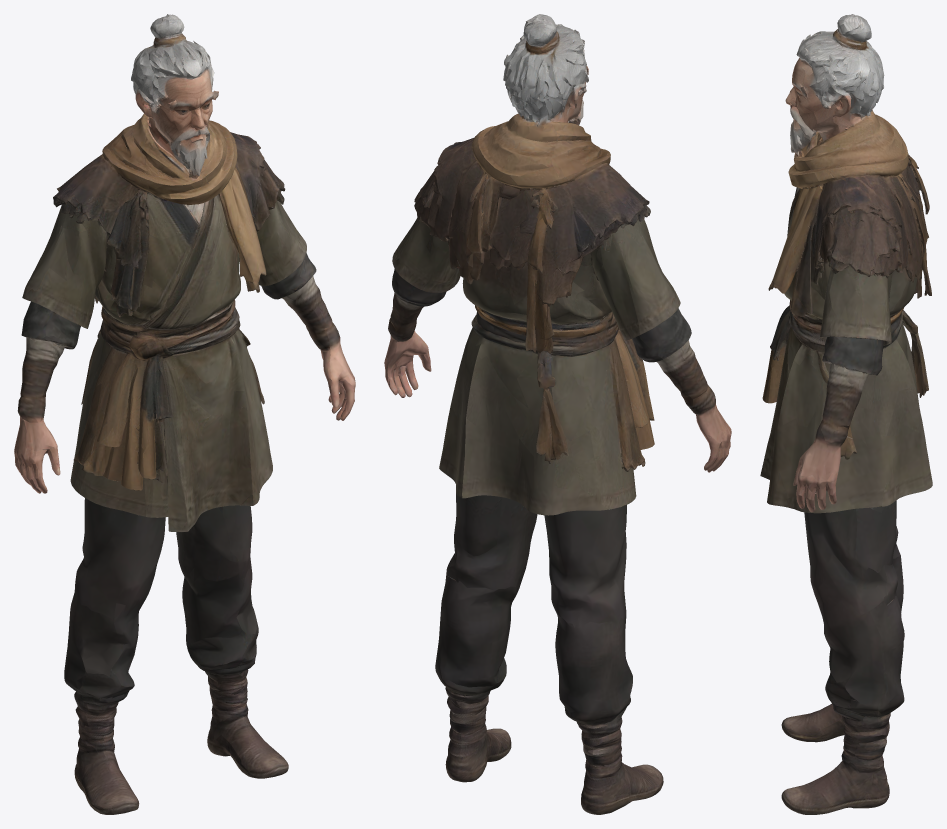
File: shenzhaoye-elder-v1.glb
The picture shows the model from 3 angles, left to right: view 1: azimuth 30°, elevation 25°; view 2: azimuth 150°, elevation 25°; view 3: azimuth 270°, elevation 25°; orthographic projection. The views are drawn at different scales.
Bounding box in the file's own units: 0.8699 × 1.89 × 0.3913.
1 material, 1 textured.
